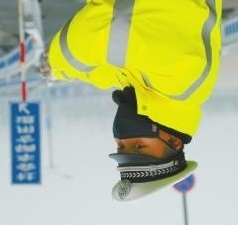person: (48, 1, 221, 202)
